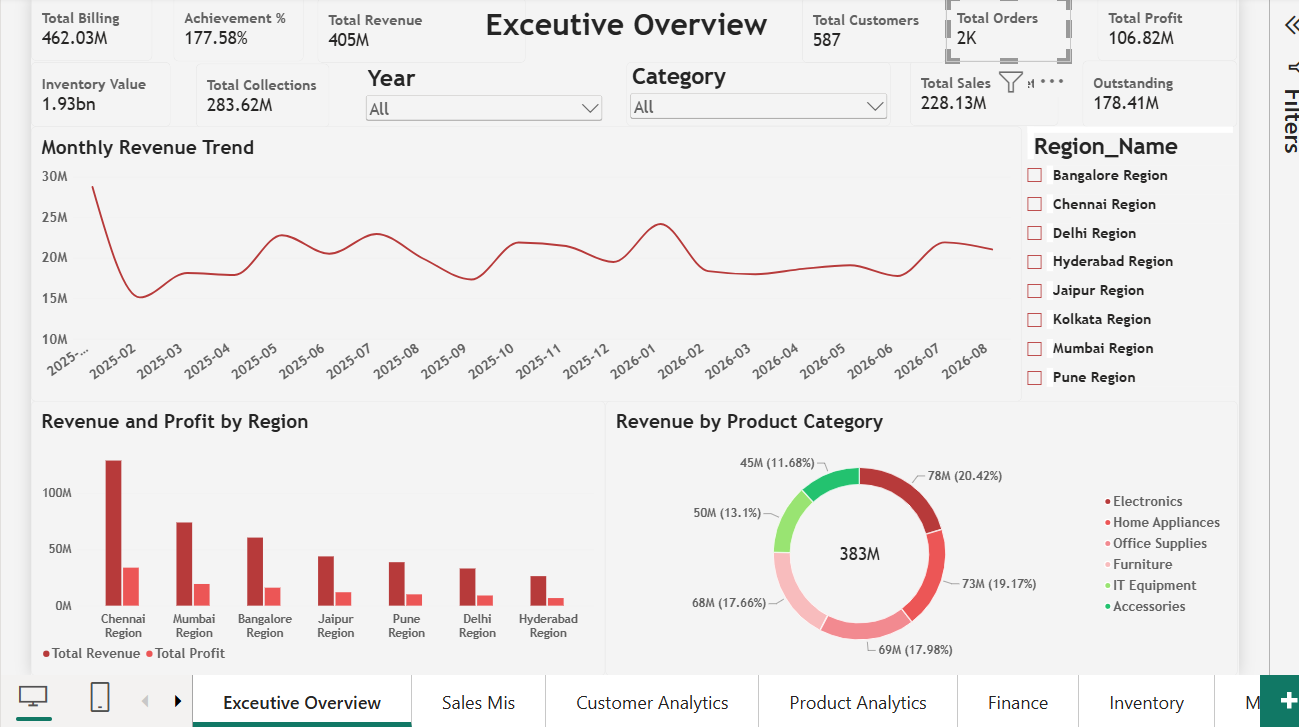

What the dashboard file says about the page in this screenshot:
{"tool":"powerbi","page":{"name":"Exceutive Overview","canvas":[1920,1080],"ordinal":0},"visuals":[{"type":"cardVisual","fields":{"Data":["Measures (2).Total Billing"]},"box":[0,0,193.4,103.9],"z":0},{"type":"cardVisual","fields":{"Data":["Measures (2).Achievement %"]},"box":[225.9,0,207.6,105],"z":1000},{"type":"cardVisual","fields":{"Data":["Measures (2).Inventory Value"]},"box":[0,103.9,222.4,103.9],"z":2000},{"type":"cardVisual","fields":{"Data":["Measures (2).Outstanding"]},"box":[1672.7,101.5,246.5,106.4],"z":3000},{"type":"cardVisual","fields":{"Data":["Measures (2).Total Sales Target"]},"box":[1399,102,236.2,105],"z":4000},{"type":"cardVisual","fields":{"Data":["Measures (2).Total Revenue"]},"box":[455.7,2.4,331.6,105],"z":5000},{"type":"cardVisual","fields":{"Data":["Measures (2).Total Collections"]},"box":[262.3,106.9,212.3,102.6],"z":6000},{"type":"cardVisual","fields":{"Data":["Measures (2).Total Customers"]},"box":[1226.6,2.4,207.6,105],"z":7000},{"type":"cardVisual","fields":{"Data":["Measures (2).Total Orders"]},"box":[1454.9,0,198.2,103.9],"z":8000},{"type":"cardVisual","fields":{"Data":["Measures (2).Total Profit"]},"box":[1696.8,0,222.4,103.9],"z":9000},{"type":"lineChart","title":"Monthly Revenue Trend","fields":{"Category":["Date Table.Year Month"],"Y":["Measures (2).Total Revenue"]},"box":[0,206.5,1576.3,437.2],"z":10000},{"type":"clusteredColumnChart","title":"Revenue and Profit by Region","fields":{"Y":["Measures (2).Total Revenue","Measures (2).Total Profit"],"Category":["Region.Region_Name"]},"box":[0,643.6,913.2,437.2],"z":11000},{"type":"donutChart","title":"Revenue by Product Category","fields":{"Category":["Product.Category"],"Y":["Measures (2).Total Revenue"]},"box":[913.2,643.6,1005.5,437.2],"z":12000},{"type":"slicer","fields":{"Values":["Date Table.Year"]},"box":[527.1,106.9,386.2,106.9],"z":13000},{"type":"slicer","fields":{"Values":["Region.Region_Name"]},"box":[1576.3,206.5,342.5,437.2],"z":14000},{"type":"slicer","fields":{"Values":["Product.Category"]},"box":[947.2,104.4,420.2,102],"z":15000},{"type":"textbox","box":[603.6,0,687.1,102.6],"z":16000}]}

Visuals, with their boxes on the page's 1920x1080 design canvas (x1, y1, x2, y2). These are canvas units, not pixel positions in the 1299x727 screenshot, which may show the page scaled, cropped or inside an application window:
cardVisual - Measures (2).Total Billing: select_region(0, 0, 193, 104)
cardVisual - Measures (2).Achievement %: select_region(226, 0, 434, 105)
cardVisual - Measures (2).Inventory Value: select_region(0, 104, 222, 208)
cardVisual - Measures (2).Outstanding: select_region(1673, 102, 1919, 208)
cardVisual - Measures (2).Total Sales Target: select_region(1399, 102, 1635, 207)
cardVisual - Measures (2).Total Revenue: select_region(456, 2, 787, 107)
cardVisual - Measures (2).Total Collections: select_region(262, 107, 475, 210)
cardVisual - Measures (2).Total Customers: select_region(1227, 2, 1434, 107)
cardVisual - Measures (2).Total Orders: select_region(1455, 0, 1653, 104)
cardVisual - Measures (2).Total Profit: select_region(1697, 0, 1919, 104)
"Monthly Revenue Trend" lineChart: select_region(0, 206, 1576, 644)
"Revenue and Profit by Region" clusteredColumnChart: select_region(0, 644, 913, 1081)
"Revenue by Product Category" donutChart: select_region(913, 644, 1919, 1081)
slicer - Date Table.Year: select_region(527, 107, 913, 214)
slicer - Region.Region_Name: select_region(1576, 206, 1919, 644)
slicer - Product.Category: select_region(947, 104, 1367, 206)
textbox: select_region(604, 0, 1291, 103)
